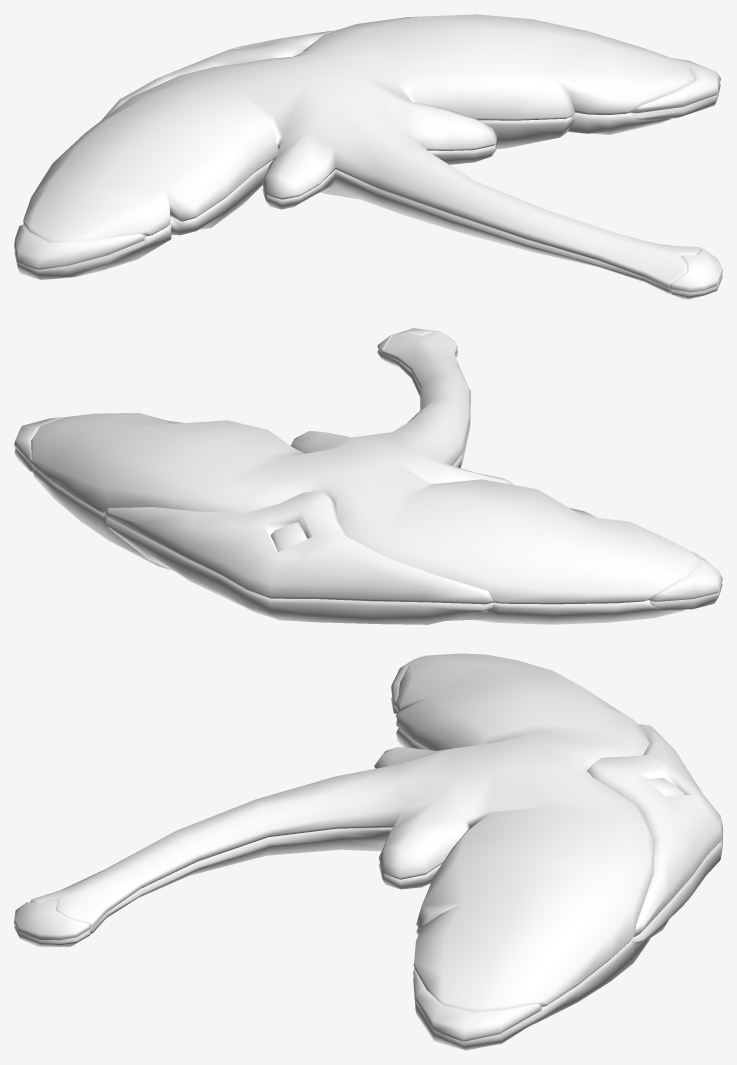
File: Prop_BigMantaPlush.glb
The picture shows the model from 3 angles, top to bottom: view 1: azimuth 30°, elevation 25°; view 2: azimuth 150°, elevation 25°; view 3: azimuth 270°, elevation 25°; orthographic projection. The views are drawn at different scales.
Parts seen in each view (by area): view 1: Prop_BigMantaPlush; view 2: Prop_BigMantaPlush; view 3: Prop_BigMantaPlush.
Boxes of the visible parts, x1=… form: Prop_BigMantaPlush: x1=14, y1=14, x2=722, y2=299; Prop_BigMantaPlush: x1=14, y1=328, x2=722, y2=624; Prop_BigMantaPlush: x1=14, y1=653, x2=722, y2=1050.
Bounding box in the file's own units: 7.28 × 1.13 × 5.82.
Materials: 1 (1 with a texture image).
